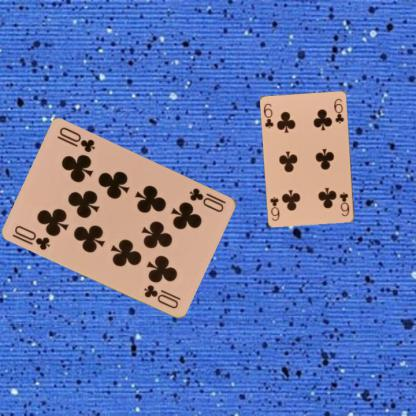10c: (10, 222, 52, 252), (188, 185, 226, 213)
6c: (337, 189, 351, 218), (261, 101, 275, 130)
